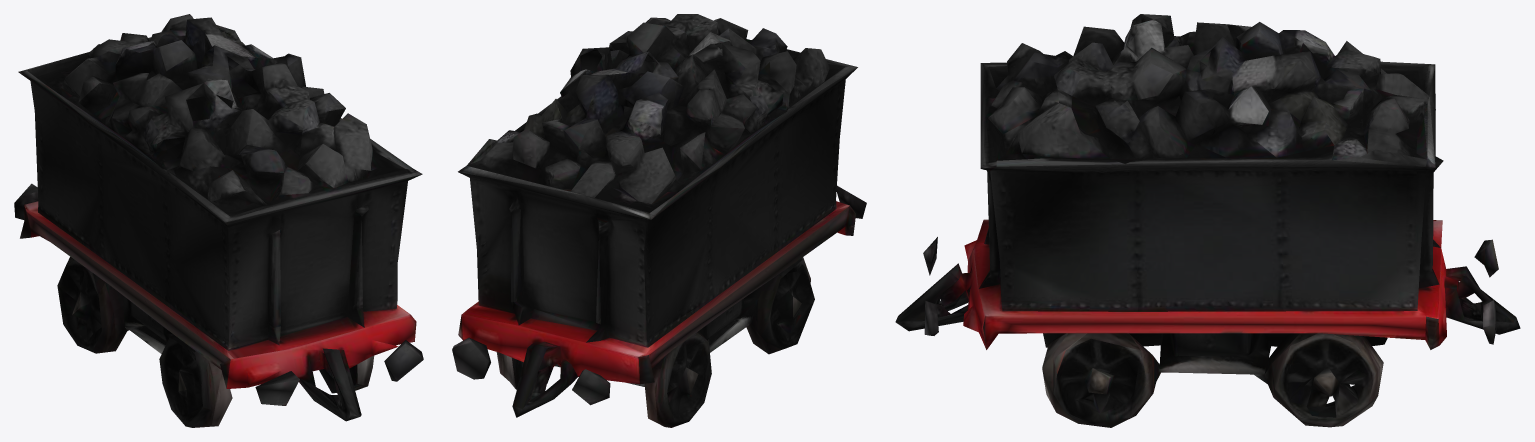
Rendered from tender.glb.
The picture shows the model from 3 angles, left to right: view 1: azimuth 30°, elevation 25°; view 2: azimuth 150°, elevation 25°; view 3: azimuth 270°, elevation 25°; orthographic projection. The views are drawn at different scales.
Visible parts, largest first — view 1: geometry_0; view 2: geometry_0; view 3: geometry_0.
Part boxes in pixels (box(x1,y1,x2,y2)): geometry_0: box(14, 14, 423, 427); geometry_0: box(452, 14, 866, 427); geometry_0: box(895, 14, 1520, 427).
Size of the model in its own units: 2.83 by 4.39 by 7.
Materials: 1 (1 with a texture image).
